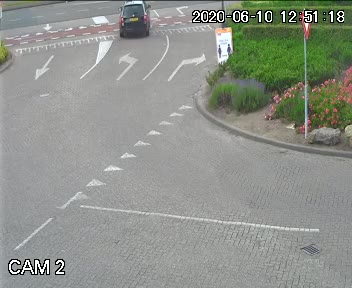car: (115, 0, 154, 44)
